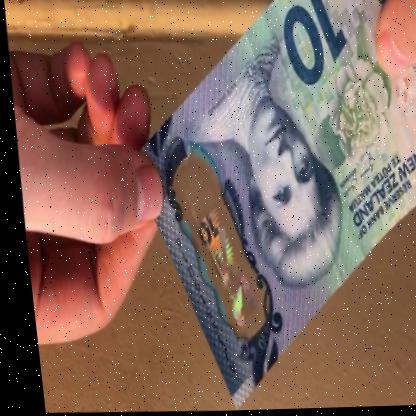10B: (187, 205, 261, 337)
